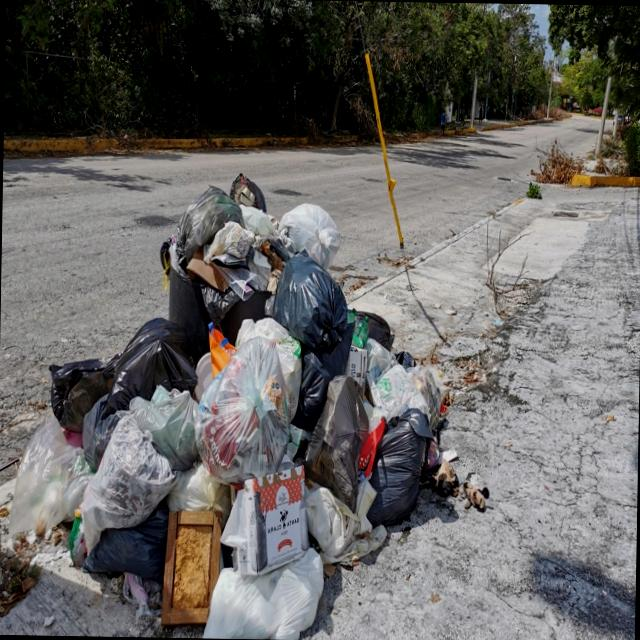garbage: (0, 168, 478, 640)
